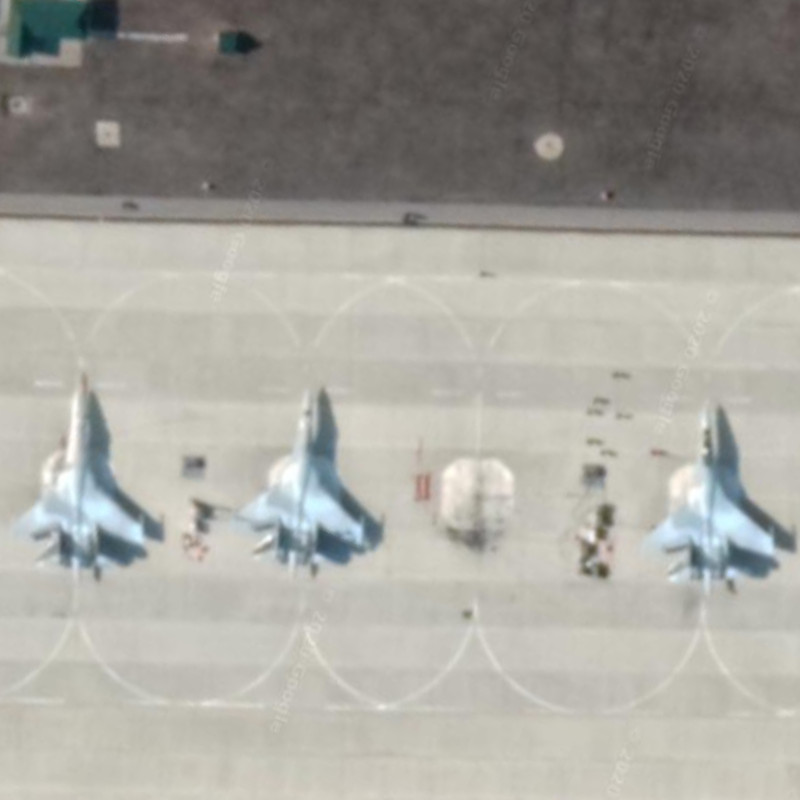A1: (12, 368, 171, 585), (232, 378, 384, 573), (637, 398, 788, 594)
